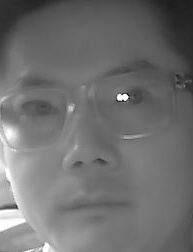glass: (92, 67, 180, 140), (1, 82, 72, 152)
mouth: (58, 189, 130, 229)
